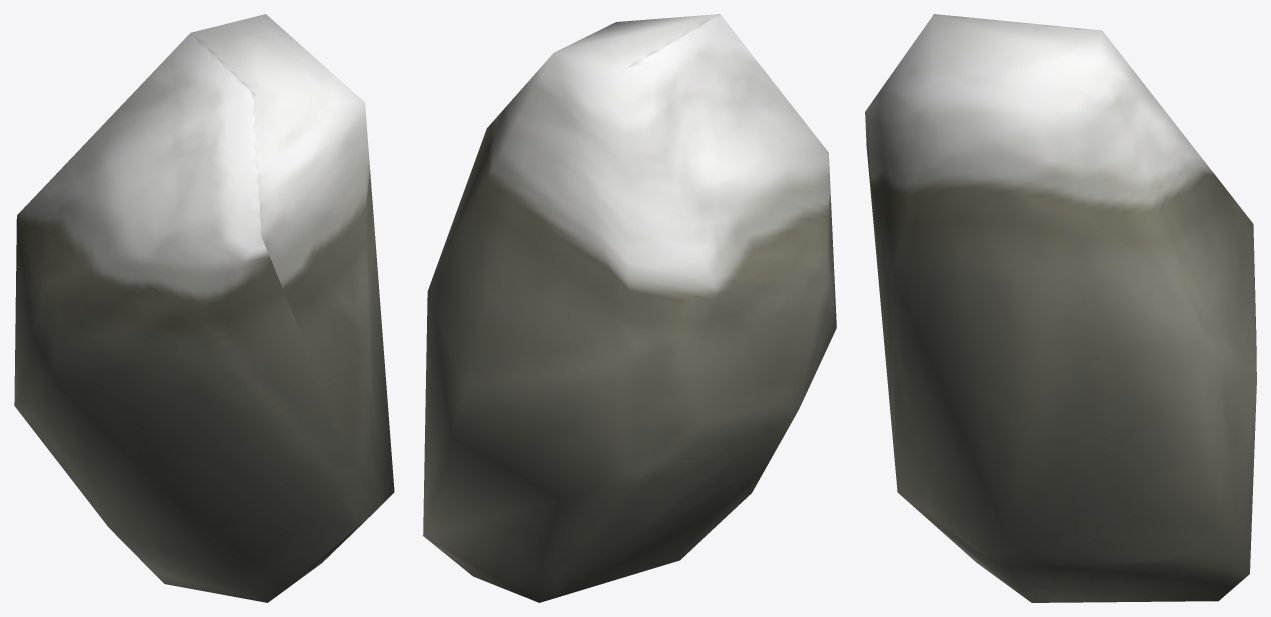
The model's file is Ice_rock_02.fbx.
3 views of the same model, side by side, from view 1: azimuth 30°, elevation 25°; view 2: azimuth 150°, elevation 25°; view 3: azimuth 270°, elevation 25° (orthographic). The views are drawn at different scales.
Visible parts, largest first — view 1: Ice_rock_02; view 2: Ice_rock_02; view 3: Ice_rock_02.
Part boxes in pixels (x1,y1,x2,y2): Ice_rock_02: (14,14,394,602); Ice_rock_02: (423,14,836,602); Ice_rock_02: (865,14,1256,602).
Bounding box in the file's own units: 57.91 × 85.67 × 57.23.
